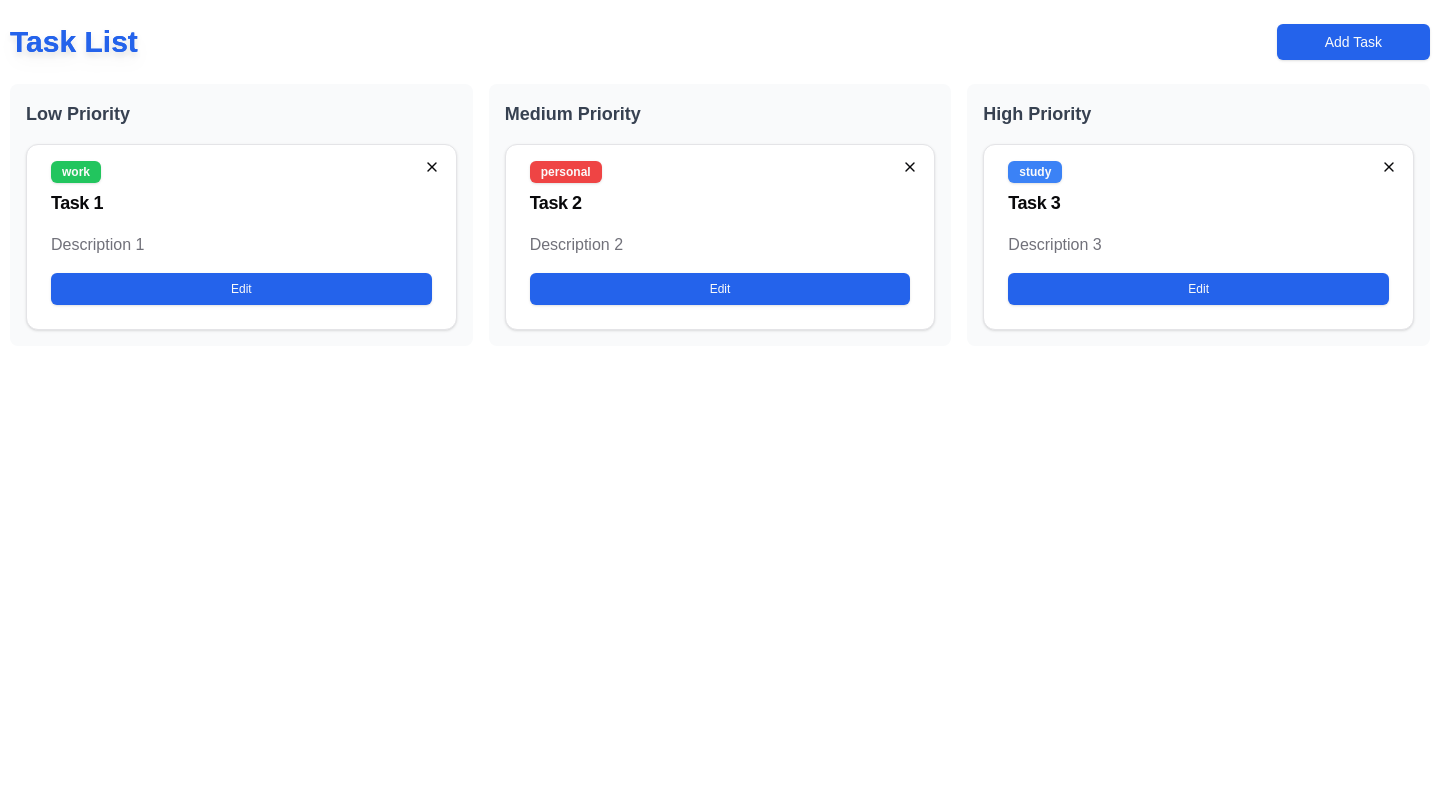
it: TasksContainer › opens add task modal when clicking Add Task button
Click the button "Add Task": (1353, 42) [1277,24,1430,60]
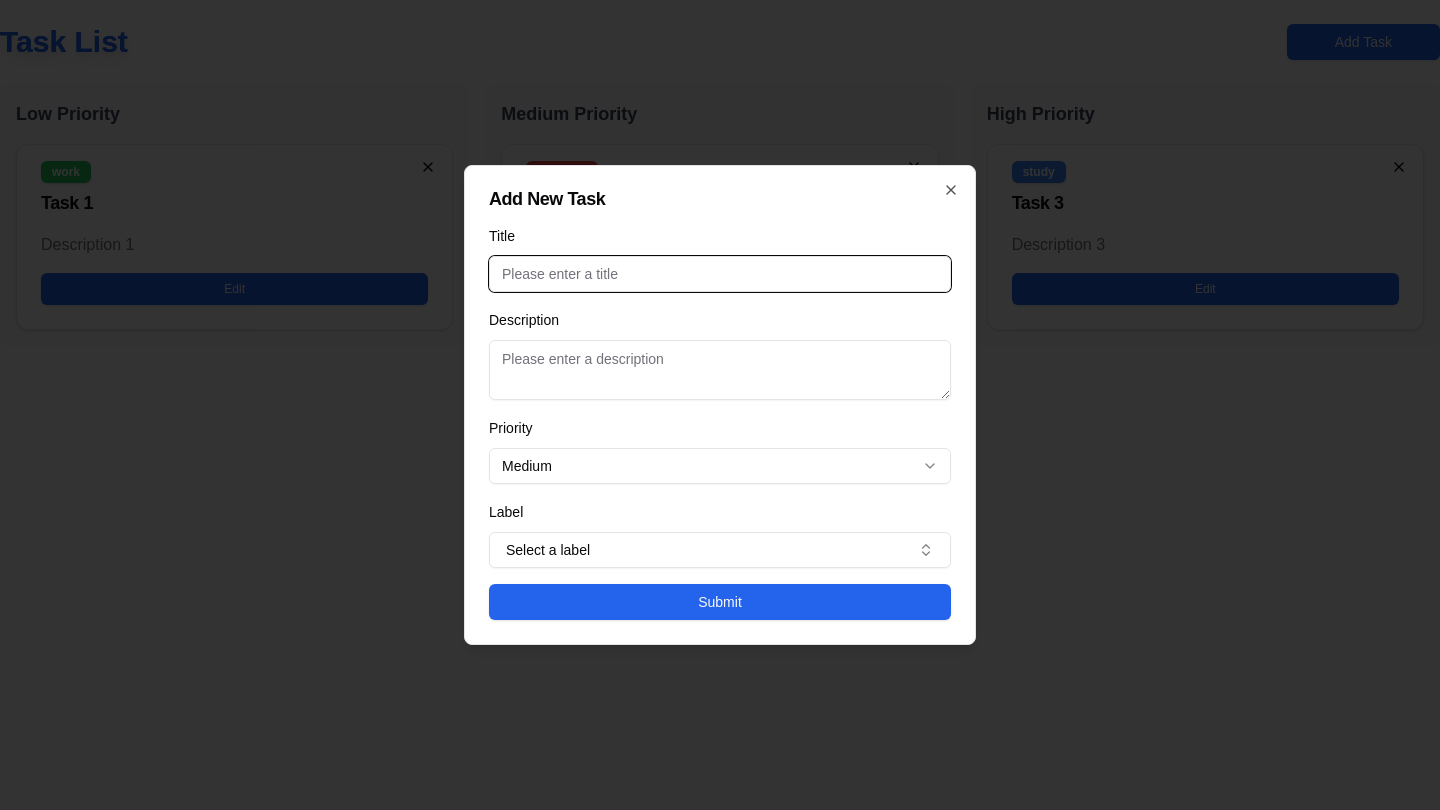
Now the heading "Add New Task" is shown, box [489,189,605,209]
